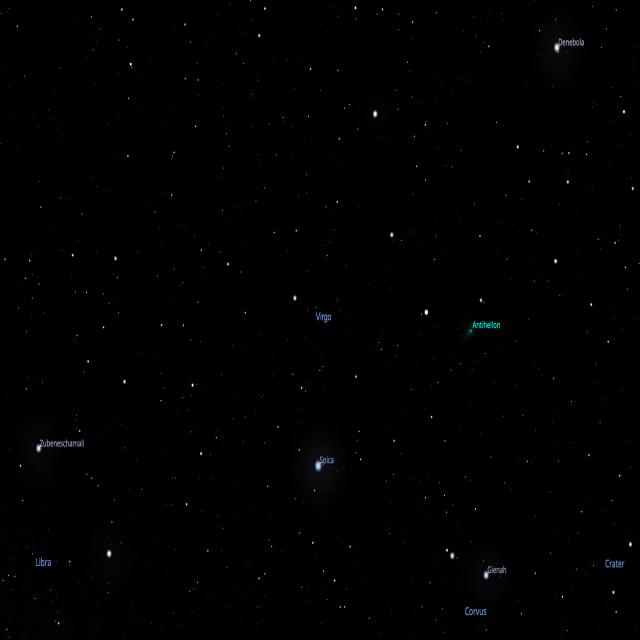Virgo: (112, 108, 572, 474)
